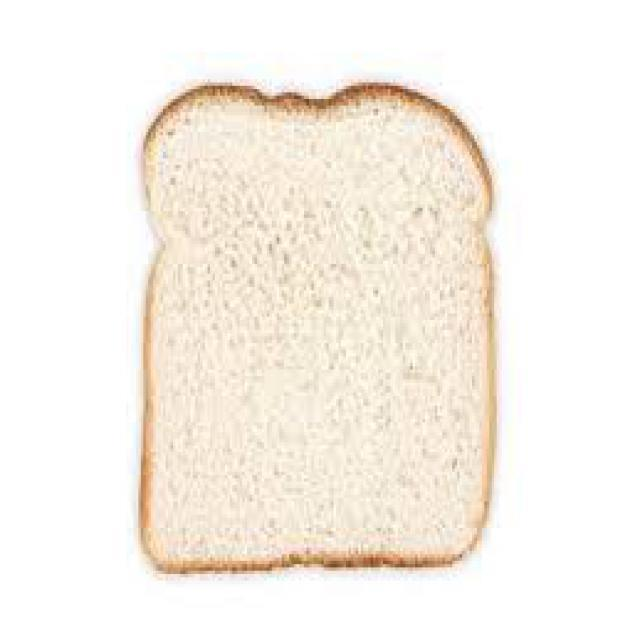Bread: (142, 84, 492, 574)
